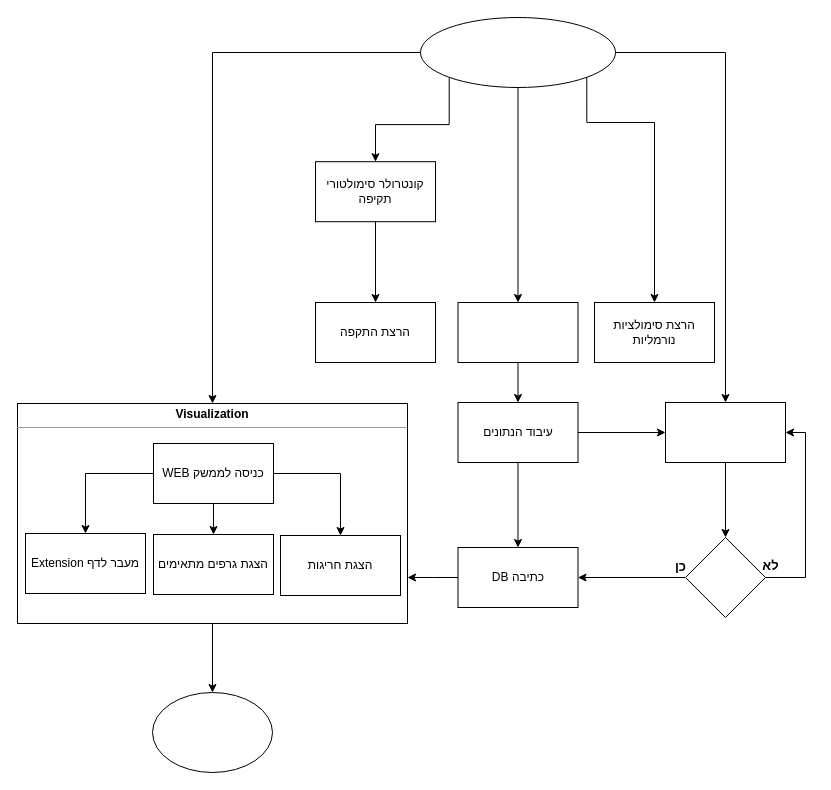
Some shapes in this 831 by 790 pixel diagram are drawn without their labels. The shapes that lost their labels are listed below. From the top down, each one's centre as x and y in pixels, then its label:
At point (518, 52): "Start".
At point (517, 332): "איסוף המידע".
At point (725, 432): "מציאת חריגות".
At point (725, 577): "נמצאה חריגה".
At point (212, 732): "סיום".
